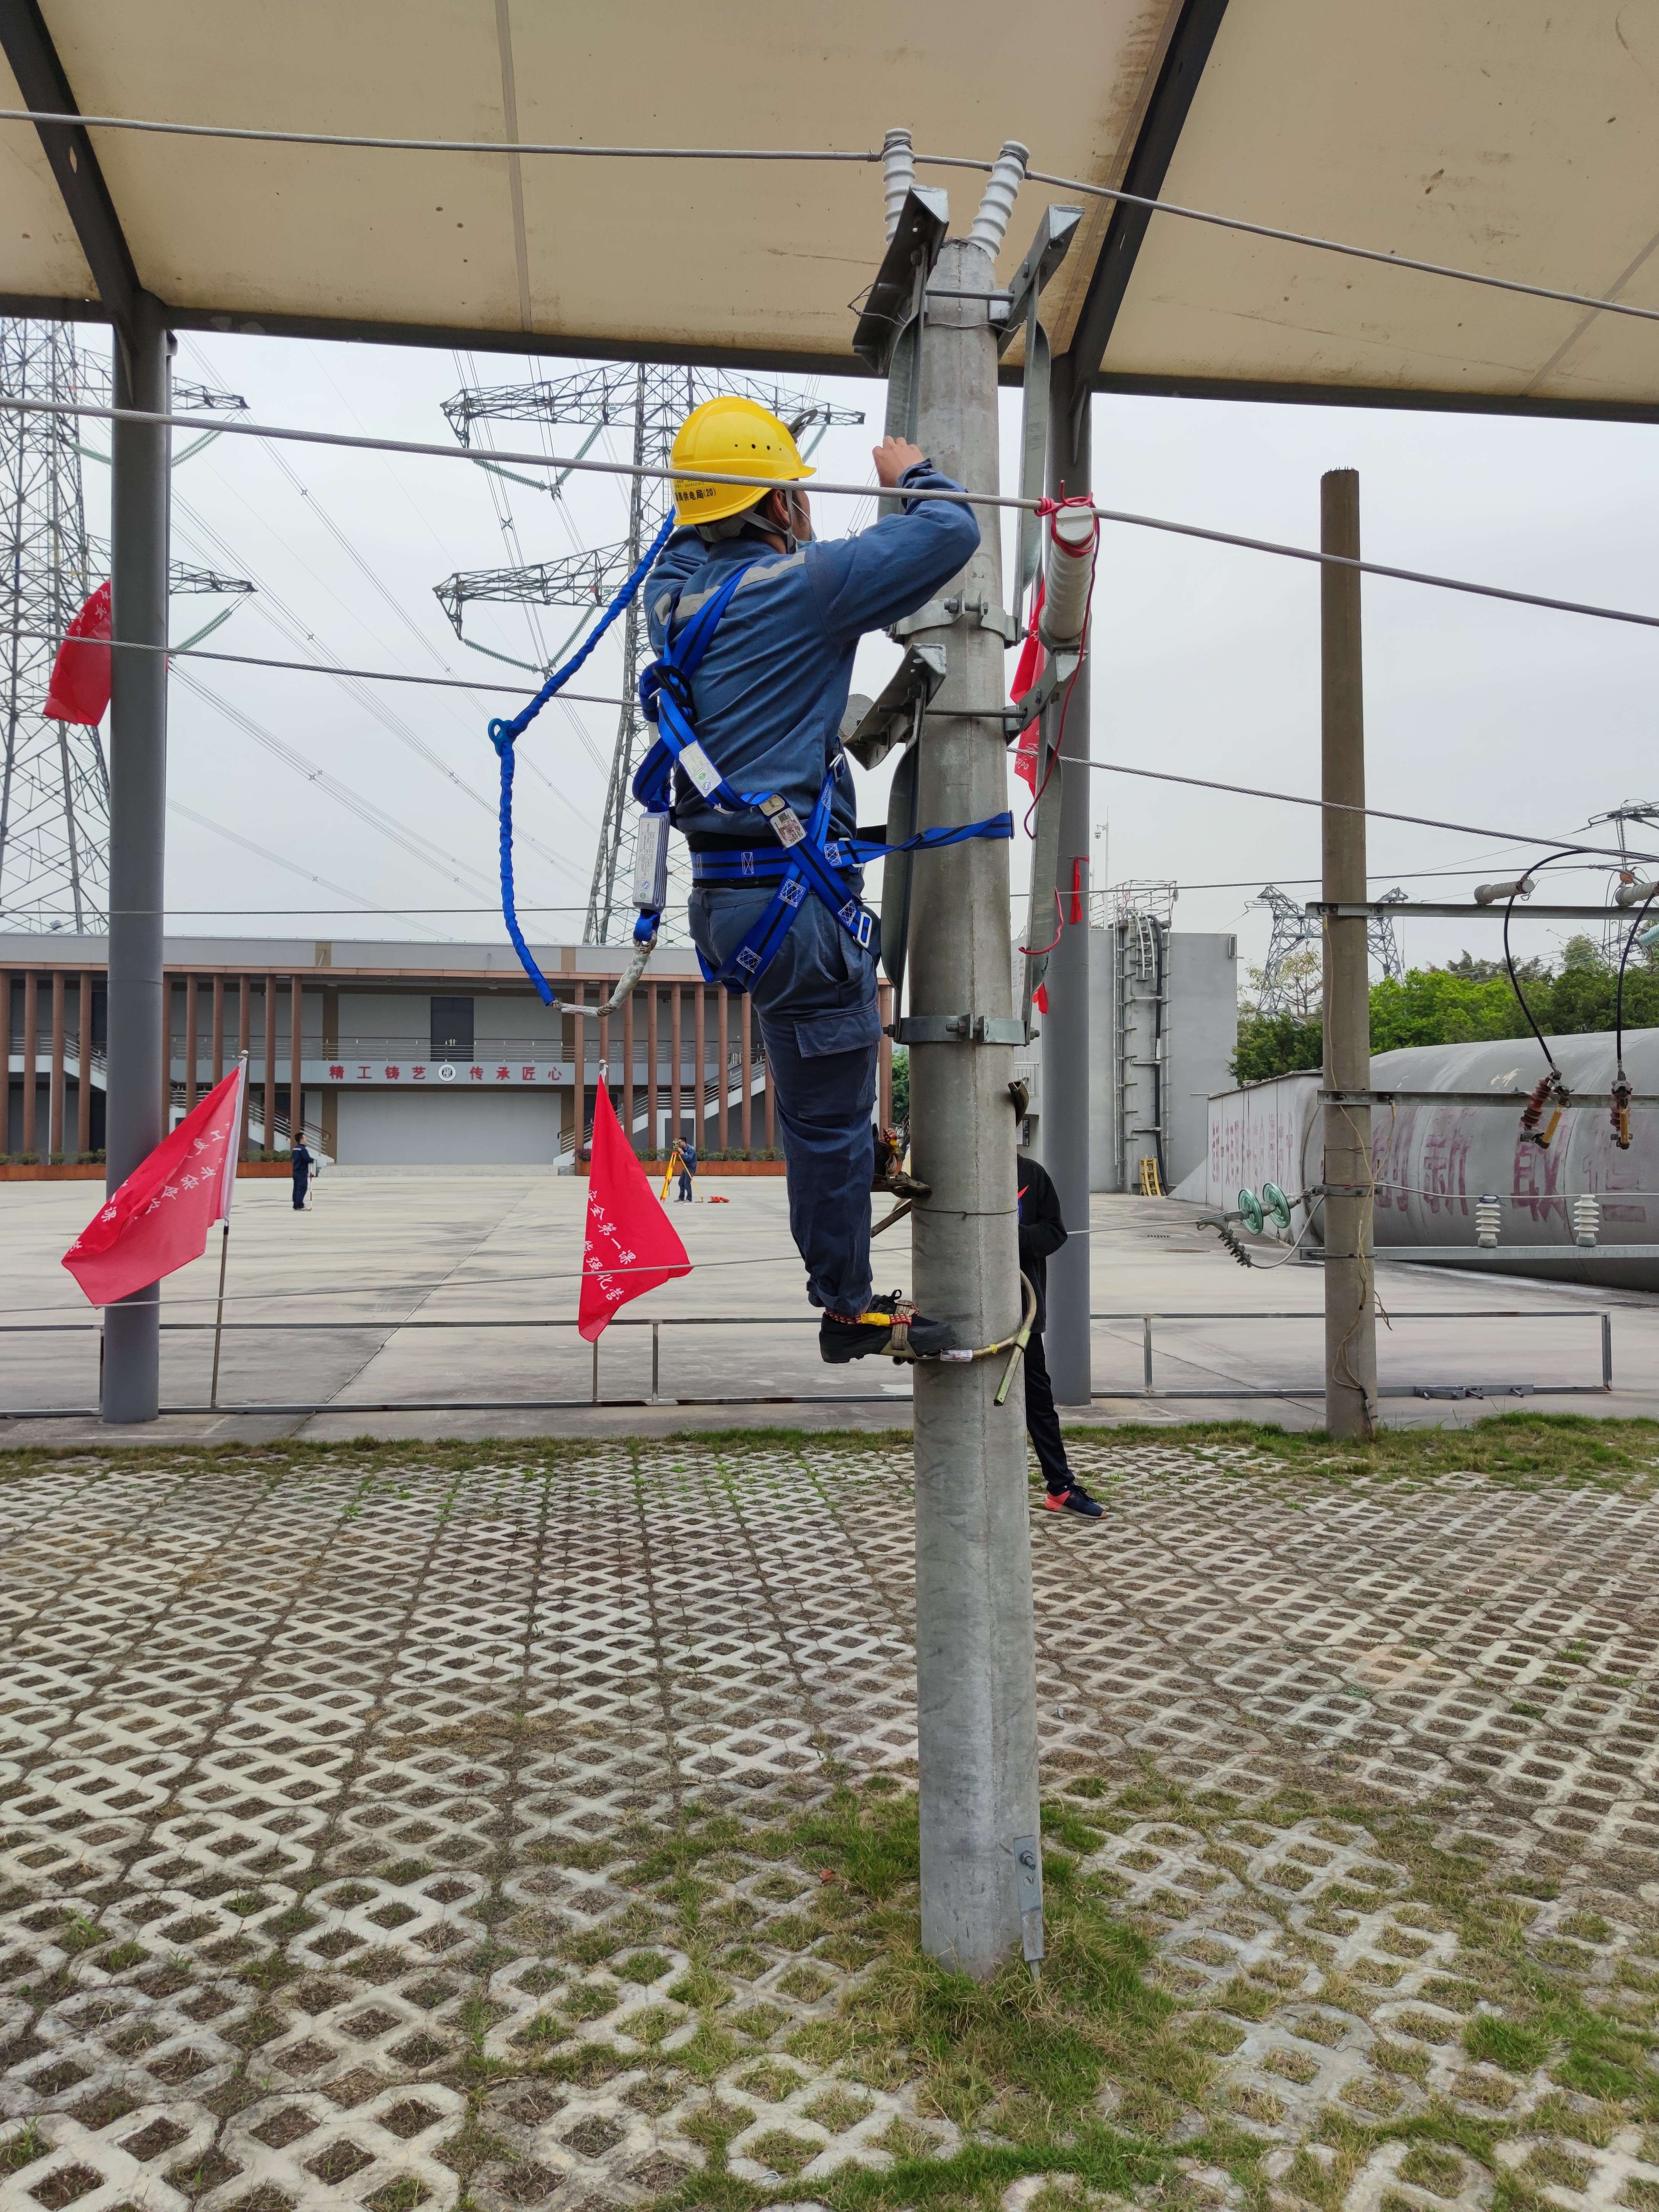downsuit: (681, 857, 901, 1305), (678, 1169, 697, 1200), (295, 1172, 308, 1209)
upsuit: (643, 470, 978, 857), (295, 1144, 314, 1172), (683, 1143, 697, 1169)
